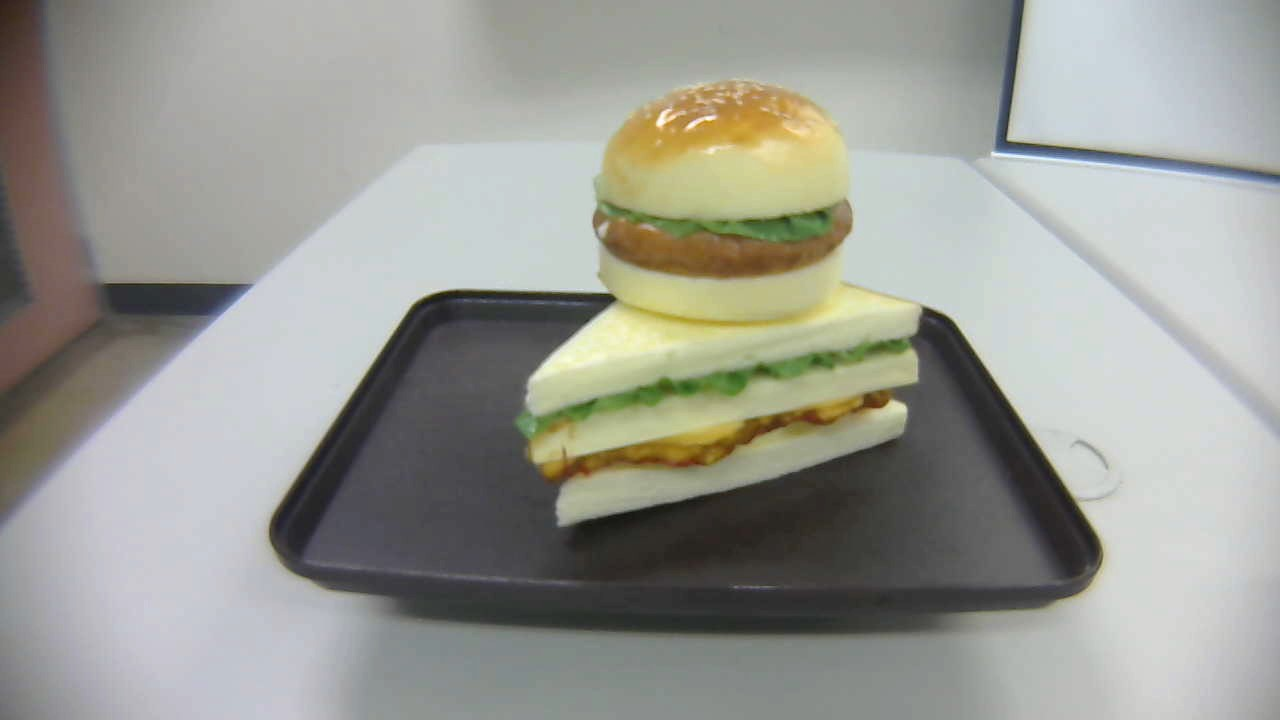hamburger: (593, 76, 855, 322)
sandwich: (523, 269, 923, 529)
